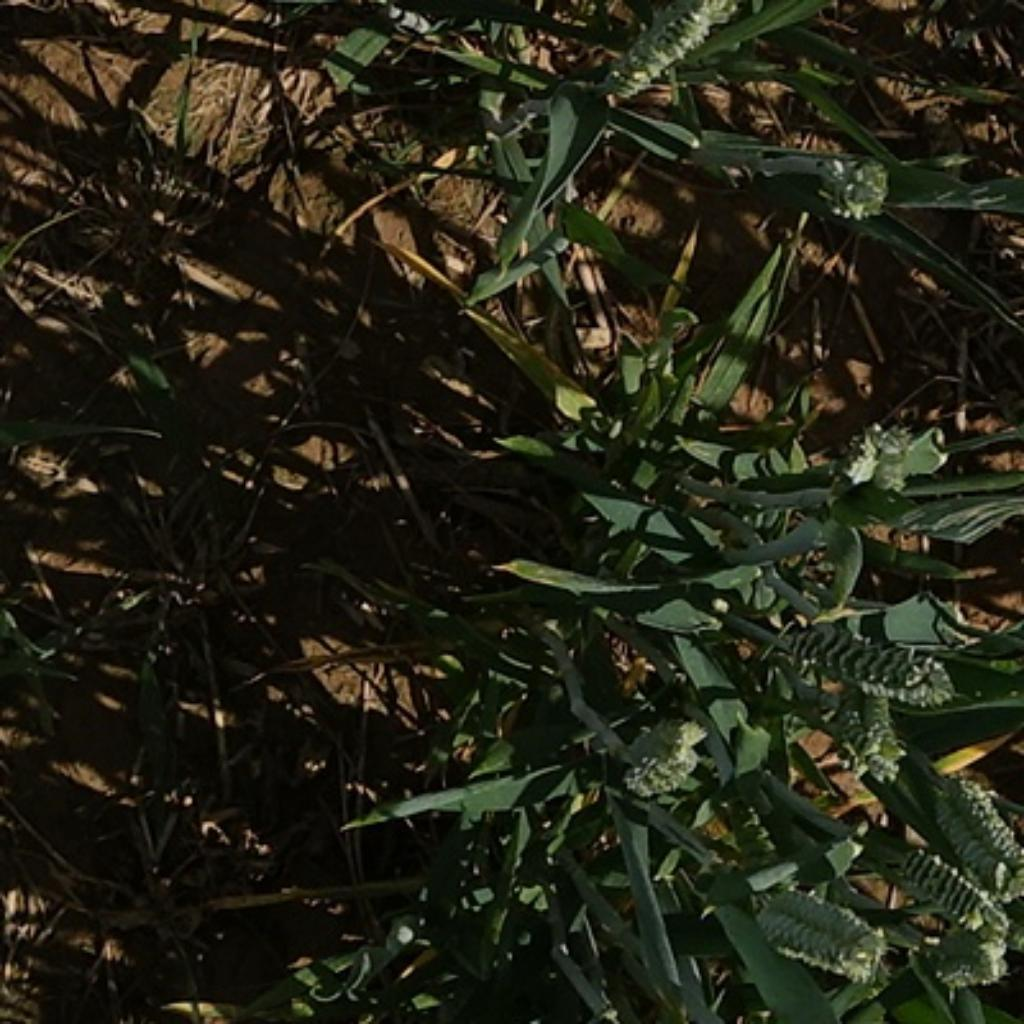0-0: (752, 611, 962, 719), (750, 883, 901, 995), (593, 0, 747, 97), (925, 755, 1024, 899), (885, 841, 1023, 919), (824, 673, 924, 778), (829, 409, 944, 494), (614, 711, 706, 801), (803, 138, 898, 222), (916, 906, 1013, 988)
